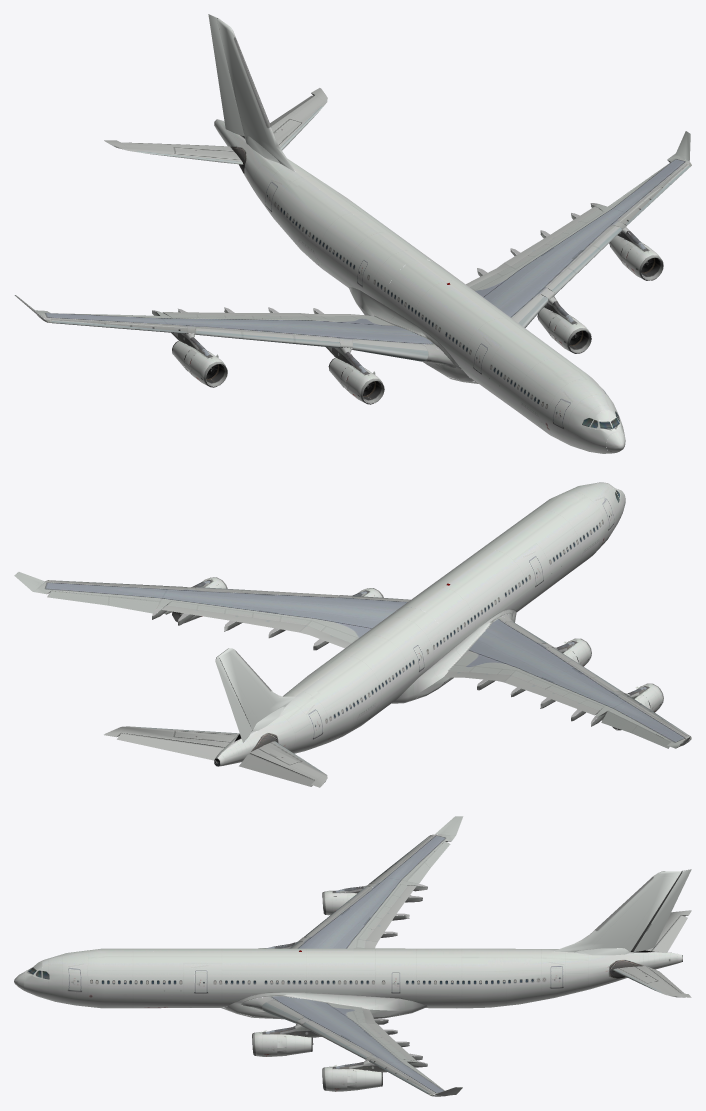
The picture shows the model from 3 angles, top to bottom: view 1: azimuth 30°, elevation 25°; view 2: azimuth 150°, elevation 25°; view 3: azimuth 270°, elevation 25°; orthographic projection. The views are drawn at different scales.
Parts seen in each view (by area): view 1: Object_9; view 2: Object_9; view 3: Object_9.
Boxes of the visible parts, x1,y1,x2,y2 form: Object_9: (14, 14, 691, 453); Object_9: (14, 482, 691, 787); Object_9: (14, 816, 691, 1096).
Size of the model in its own units: 60.28 by 14.89 by 63.69.
Materials: 2 (2 with a texture image).
